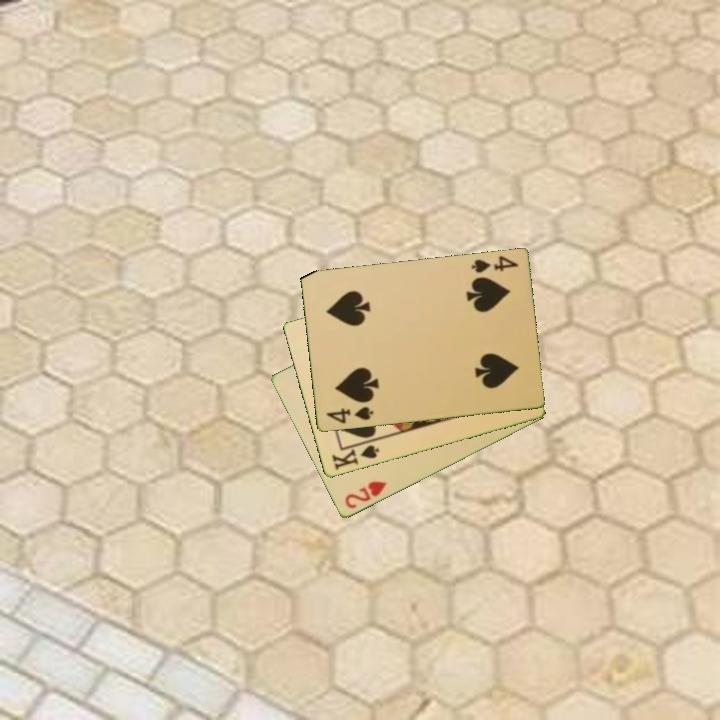2h: (341, 478, 390, 512)
4s: (322, 403, 376, 427), (467, 253, 521, 276)
Ks: (328, 442, 382, 473)
